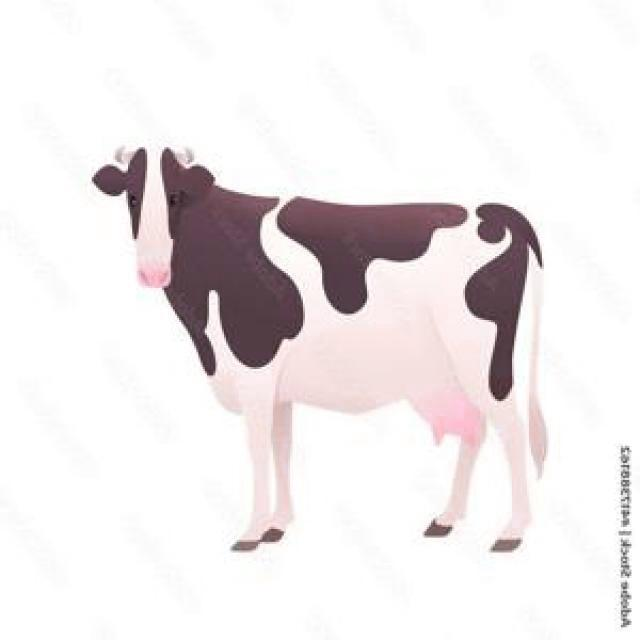cow: (95, 148, 546, 552)
